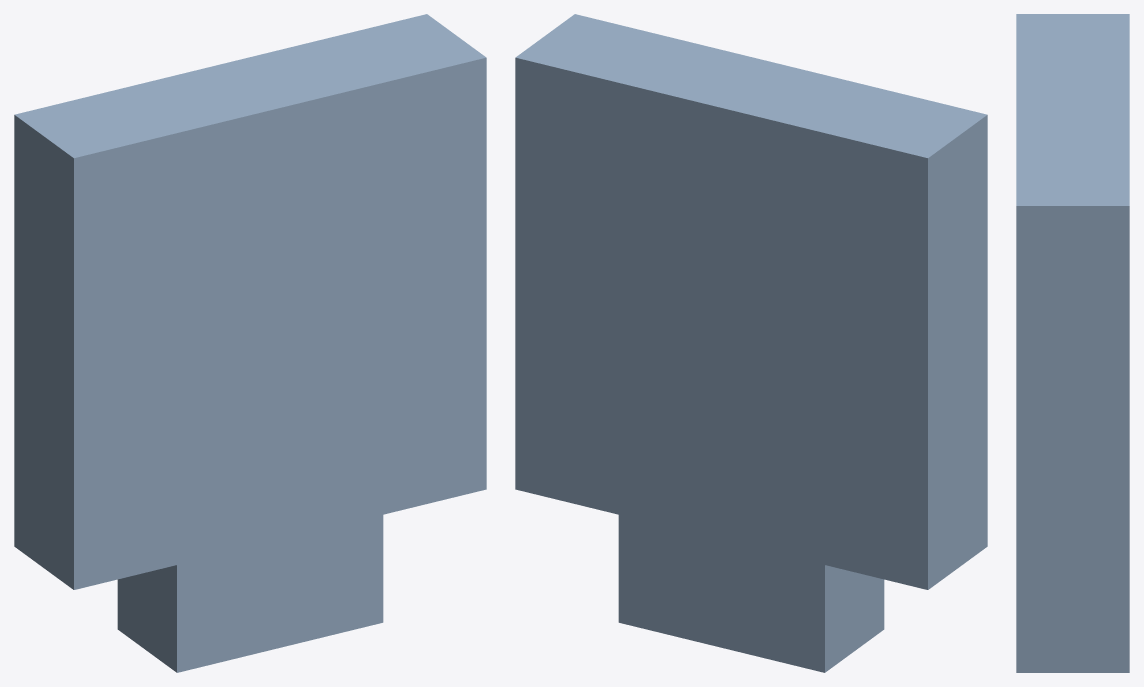
The model's file is headRobotBase.glb.
The picture shows the model from 3 angles, left to right: view 1: azimuth 30°, elevation 25°; view 2: azimuth 150°, elevation 25°; view 3: azimuth 270°, elevation 25°; orthographic projection. The views are drawn at different scales.
Visible parts, largest first — view 1: generated(Clone); view 2: generated(Clone); view 3: generated(Clone).
Boxes of the visible parts, x1,y1,x2,y2 form: generated(Clone): (14, 14, 486, 672); generated(Clone): (515, 14, 987, 672); generated(Clone): (1016, 14, 1129, 672).
Size of the model in its own units: 4 by 5 by 1.
